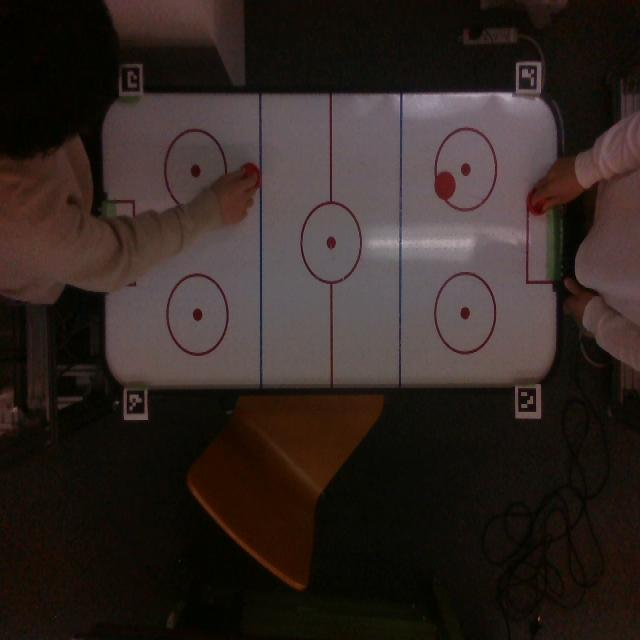puck: (434, 171, 456, 200)
